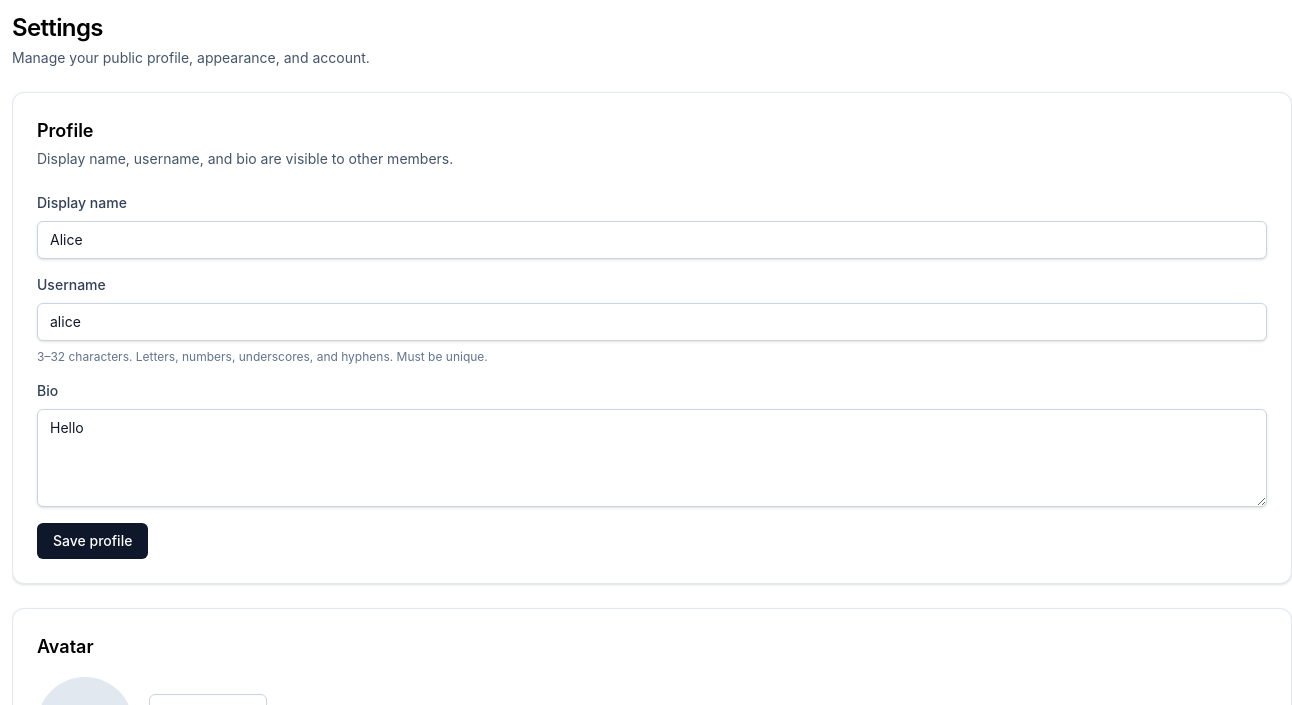
Test: SettingsPage › validates profile fields before submitting
Replace the text in the field labelled "Username" with "ab" at [652, 322], box [37, 303, 1267, 341]
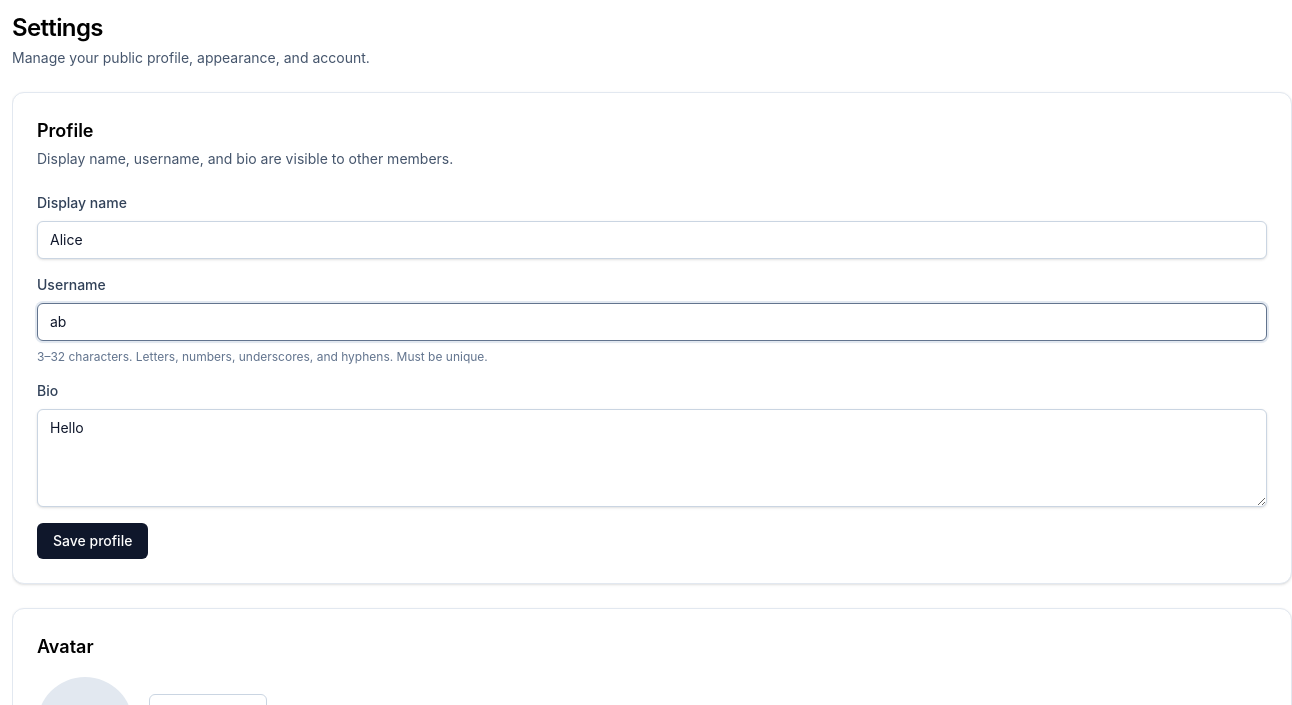
Click the button "Save profile" at [93, 541], box [37, 523, 148, 559]
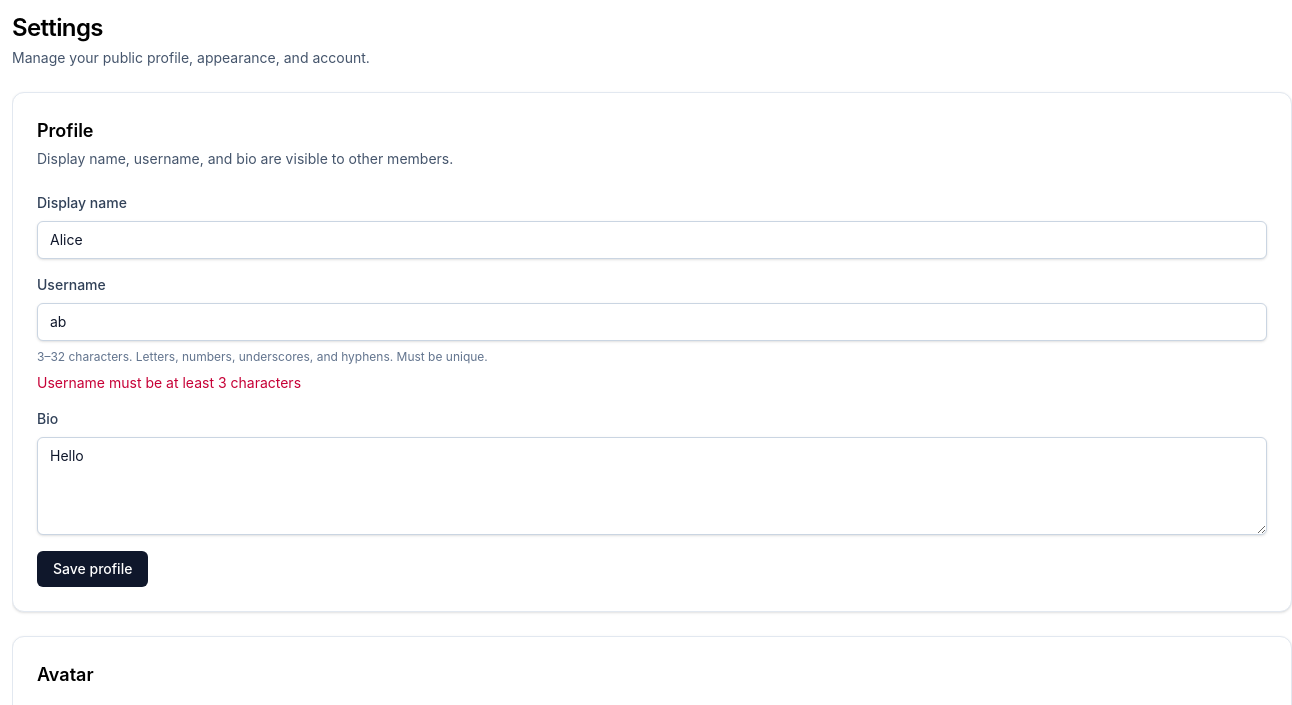
Now the text "Username must be at least 3 characters" is shown, box [37, 374, 301, 391]
